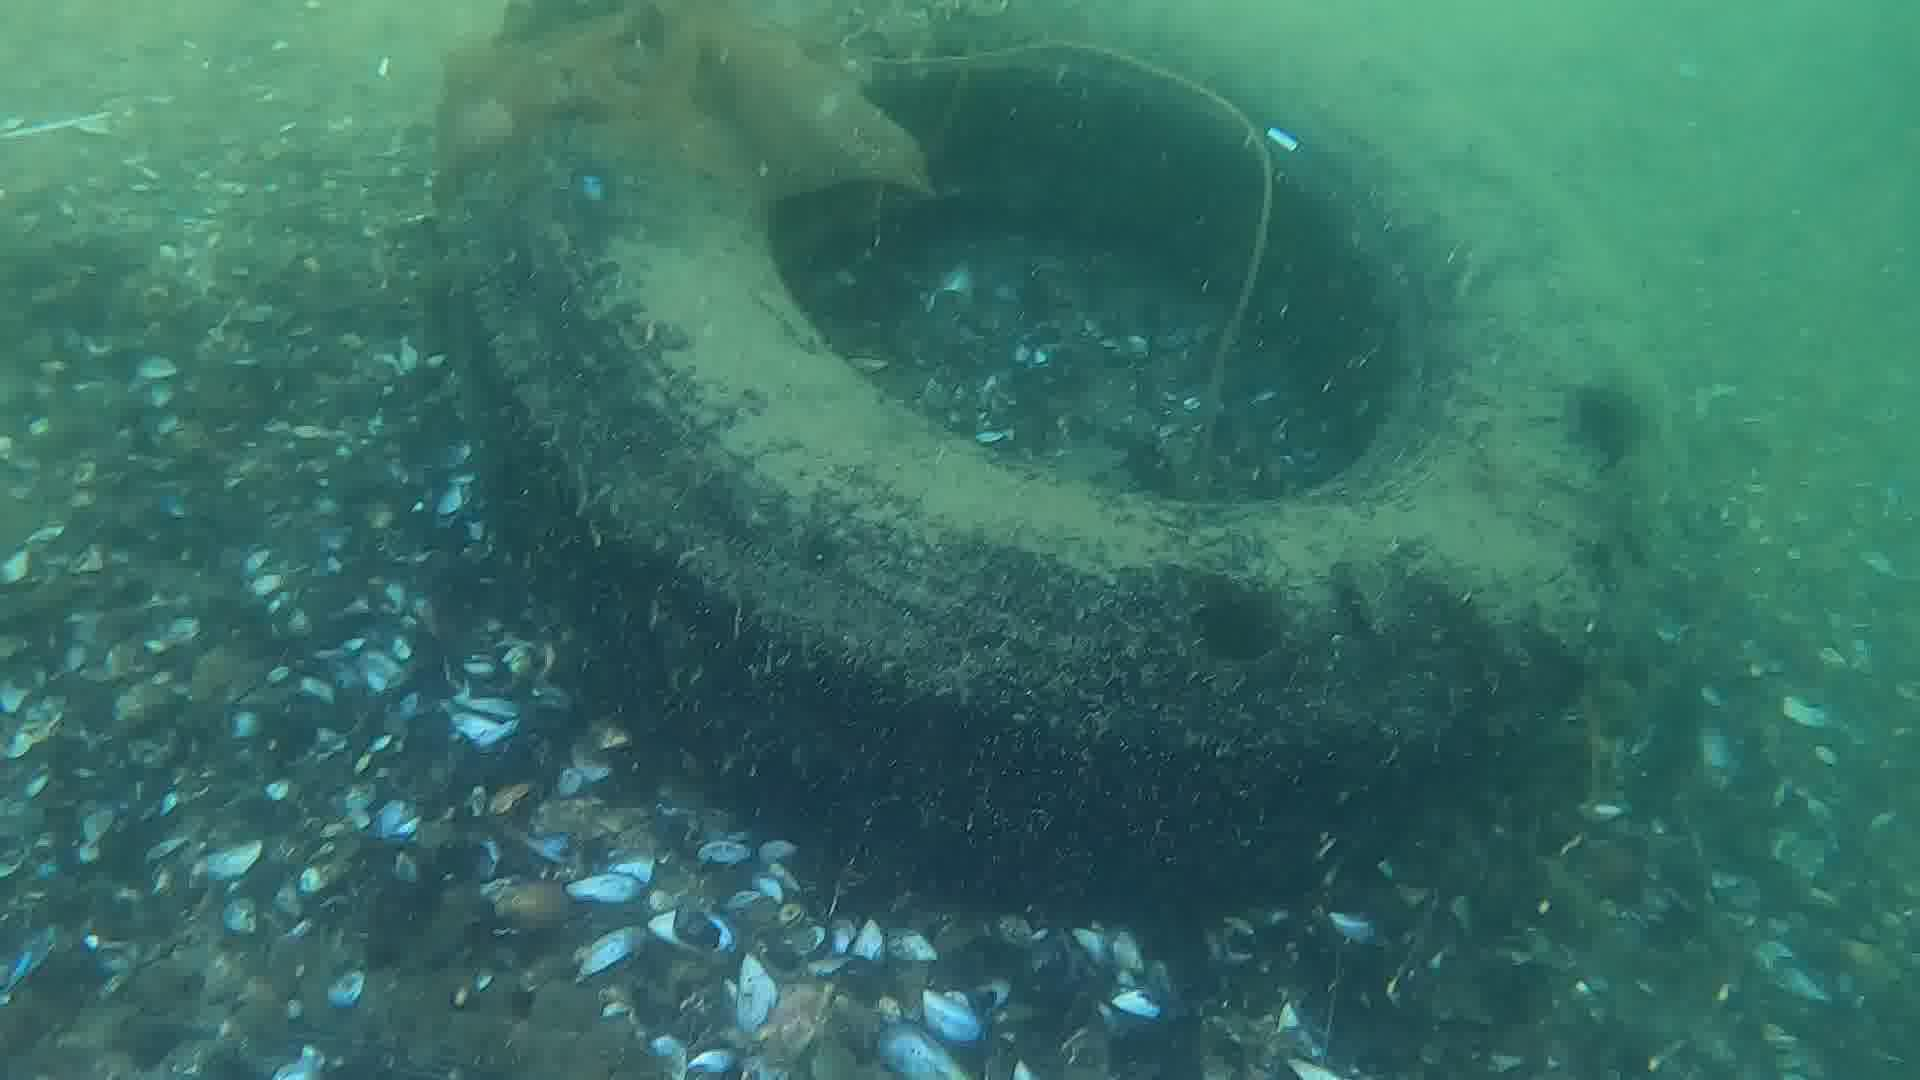tire: (446, 0, 1675, 884)
